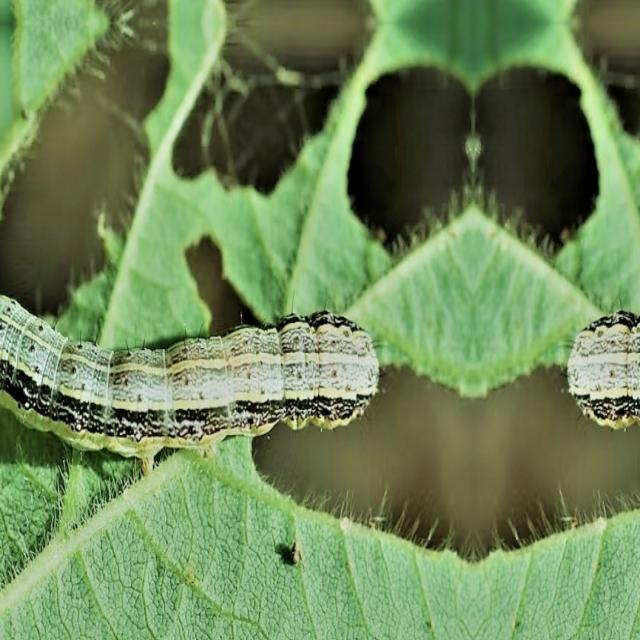armyworm: (0, 290, 382, 476), (564, 304, 640, 432)
